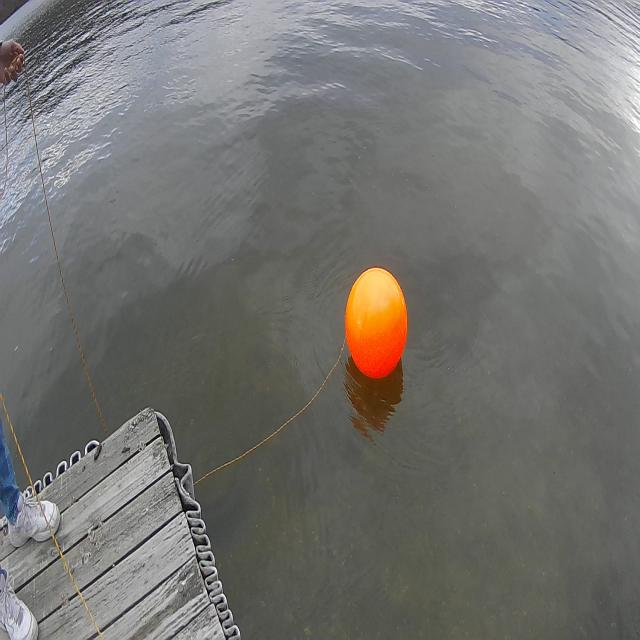Buoy: (342, 261, 411, 383)
